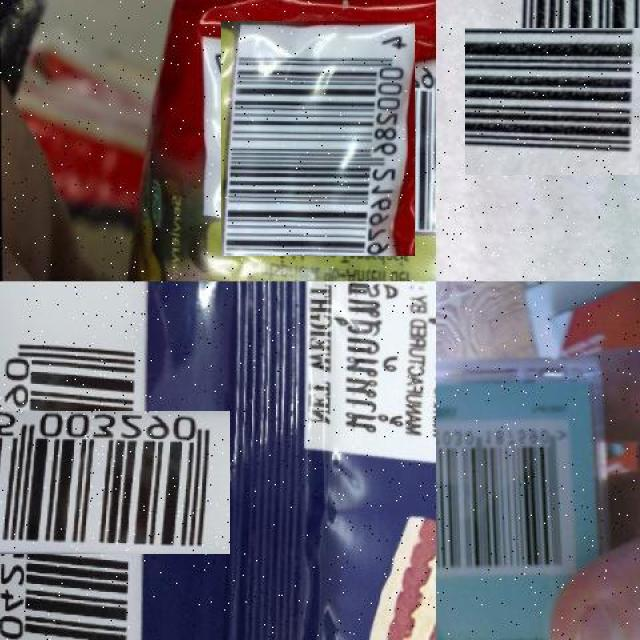Barcode: (210, 31, 426, 245), (0, 367, 187, 597), (480, 14, 640, 188), (436, 413, 577, 587)
